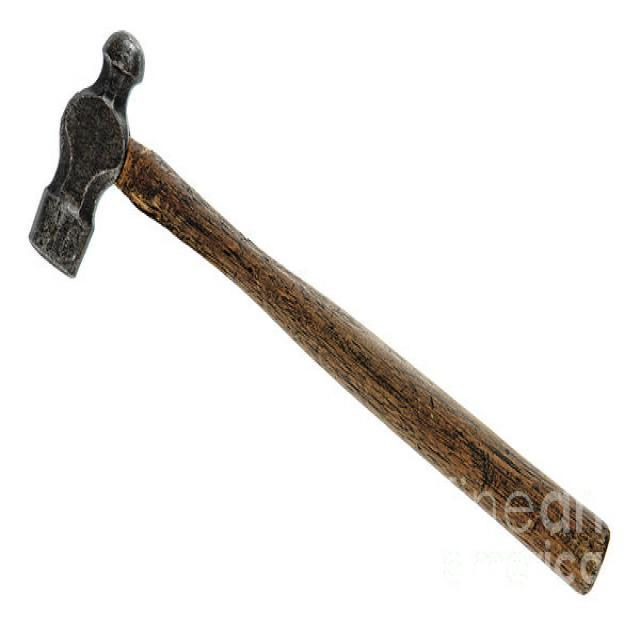hammer: (26, 25, 615, 601)
